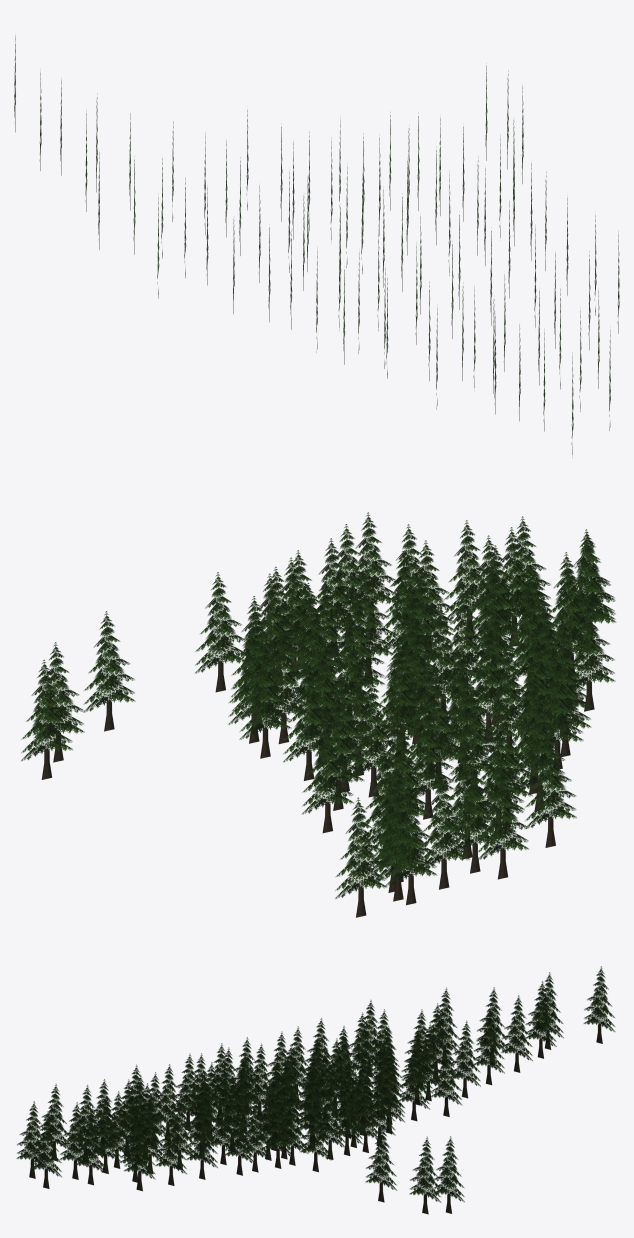
The model's file is lowpoly_trees_7.glb.
The picture shows the model from 3 angles, top to bottom: view 1: azimuth 30°, elevation 25°; view 2: azimuth 150°, elevation 25°; view 3: azimuth 270°, elevation 25°; orthographic projection. The views are drawn at different scales.
Visible parts, largest first — view 1: fir_tree.png__; view 2: fir_tree.png__; view 3: fir_tree.png__.
Boxes of the visible parts, bbox=[...] form: fir_tree.png__: bbox=[14, 36, 619, 455]; fir_tree.png__: bbox=[21, 512, 615, 917]; fir_tree.png__: bbox=[16, 966, 615, 1214].
Bounding box in the file's own units: 173 × 78.97 × 285.
1 material, 1 textured.
